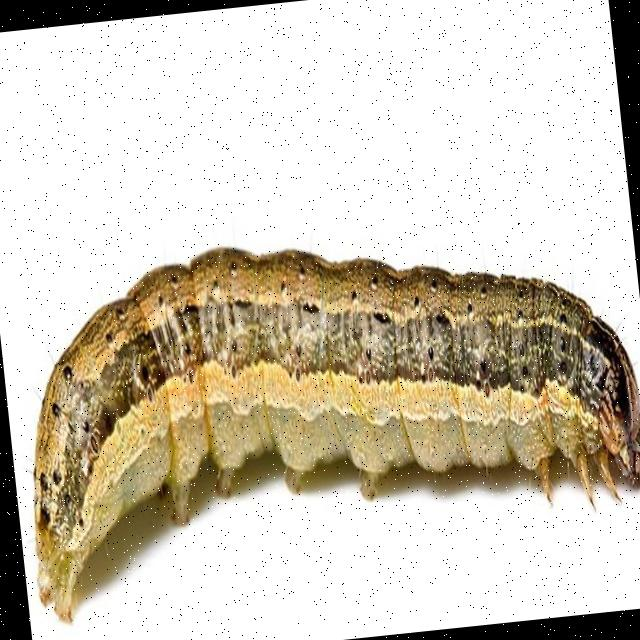worm: (4, 206, 640, 631)
